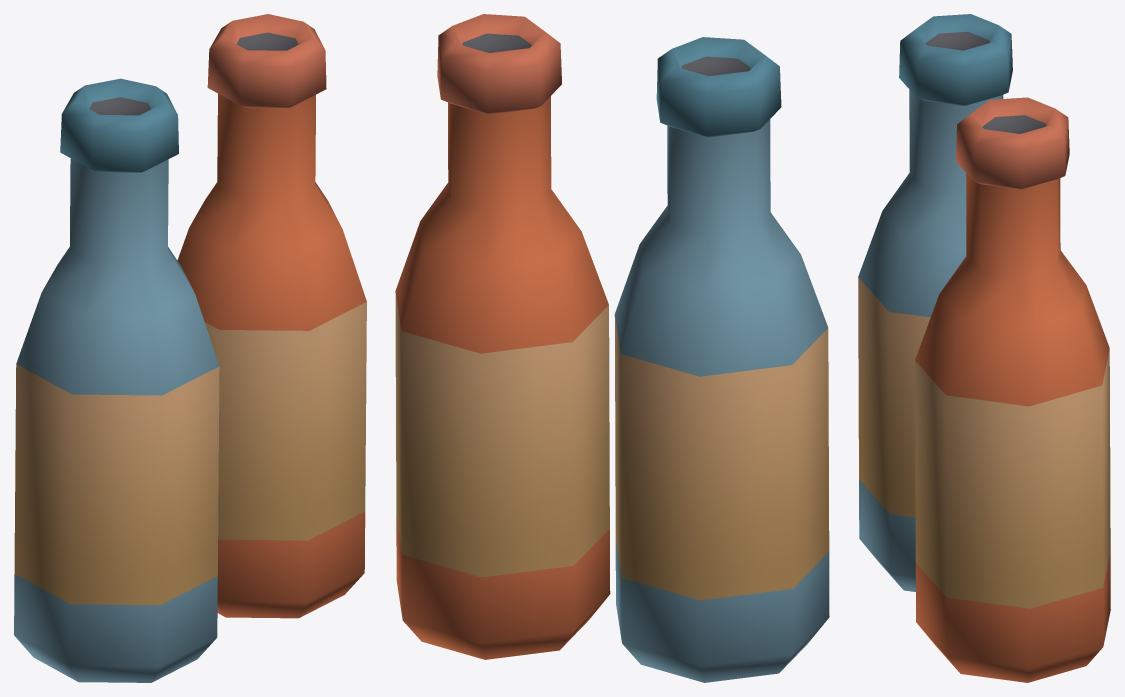
The model's file is Decor_Bar_3.fbx.
3 renders of one model, left to right at view 1: azimuth 30°, elevation 25°; view 2: azimuth 150°, elevation 25°; view 3: azimuth 270°, elevation 25°, orthographic. The views are drawn at different scales.
Visible parts, largest first — view 1: Decor_Bar_3; view 2: Decor_Bar_3; view 3: Decor_Bar_3.
Boxes of the visible parts, x1,y1,x2,y2 form: Decor_Bar_3: [14, 14, 366, 682]; Decor_Bar_3: [395, 14, 829, 682]; Decor_Bar_3: [858, 14, 1110, 682].
Bounding box in the file's own units: 42.86 × 64.07 × 27.4.
